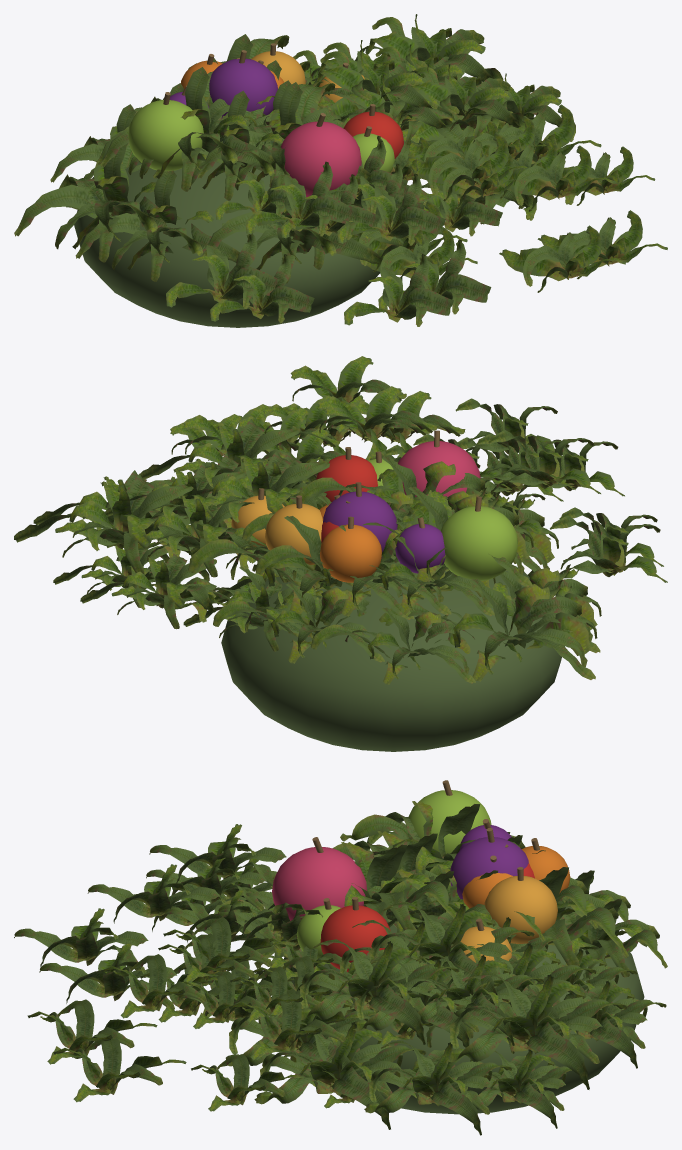
Rendered from food.glb.
3 views of the same model, one above another, from view 1: azimuth 30°, elevation 25°; view 2: azimuth 150°, elevation 25°; view 3: azimuth 270°, elevation 25° (orthographic). The views are drawn at different scales.
Parts seen in each view (by area): view 1: mound, fern.009, fern.013, fern.012, fern.008, fern.010, fern.011, fern.003, fern.014, fern.016, fruit4, fruit3 (+9 smaller); view 2: mound, fern.009, fern.003, fern.008, fern.013, fern.004, fern.005, fern.006, fruit3, fern.012, fern.001, fern.007 (+13 smaller); view 3: fern.013, fern.003, fern.009, fern.014, fern.012, fern.016, fern.001, fern.015, fern.004, mound, fern.011, fruit4 (+14 smaller).
Boxes of the visible parts, x1=… form: mound: x1=74, y1=161, x2=379, y2=327; fern.009: x1=100, y1=48, x2=527, y2=236; fern.013: x1=198, y1=64, x2=615, y2=245; fern.012: x1=202, y1=143, x2=625, y2=326; fern.008: x1=14, y1=132, x2=467, y2=309; fern.010: x1=75, y1=170, x2=477, y2=323; fern.011: x1=153, y1=74, x2=515, y2=239; fern.003: x1=163, y1=14, x2=601, y2=213; fern.014: x1=313, y1=129, x2=667, y2=314; fern.016: x1=403, y1=73, x2=655, y2=236; fruit4: x1=280, y1=121, x2=361, y2=197; fruit3: x1=128, y1=100, x2=203, y2=171; mound: x1=221, y1=565, x2=564, y2=751; fern.009: x1=160, y1=386, x2=600, y2=587; fern.003: x1=14, y1=404, x2=480, y2=619; fern.008: x1=212, y1=515, x2=667, y2=681; fern.013: x1=140, y1=356, x2=564, y2=524; fern.004: x1=80, y1=525, x2=384, y2=663; fern.005: x1=105, y1=428, x2=508, y2=616; fern.006: x1=183, y1=567, x2=523, y2=684; fruit3: x1=441, y1=506, x2=517, y2=580; fern.012: x1=295, y1=391, x2=624, y2=571; fern.001: x1=105, y1=407, x2=468, y2=568; fern.007: x1=189, y1=451, x2=550, y2=615; fern.013: x1=87, y1=842, x2=459, y2=1044; fern.003: x1=218, y1=867, x2=628, y2=1089; fern.009: x1=149, y1=801, x2=534, y2=1007; fern.014: x1=39, y1=936, x2=426, y2=1129; fern.012: x1=14, y1=886, x2=377, y2=1070; fern.016: x1=178, y1=973, x2=511, y2=1135; fern.001: x1=218, y1=868, x2=545, y2=1045; fern.015: x1=163, y1=868, x2=501, y2=1047; fern.004: x1=380, y1=899, x2=667, y2=1068; mound: x1=283, y1=907, x2=644, y2=1114; fern.011: x1=146, y1=831, x2=474, y2=1012; fruit4: x1=272, y1=847, x2=366, y2=920.
Bounding box in the file's own units: 1.84 × 0.7646 × 1.7.
Materials: 9 (1 with a texture image).
